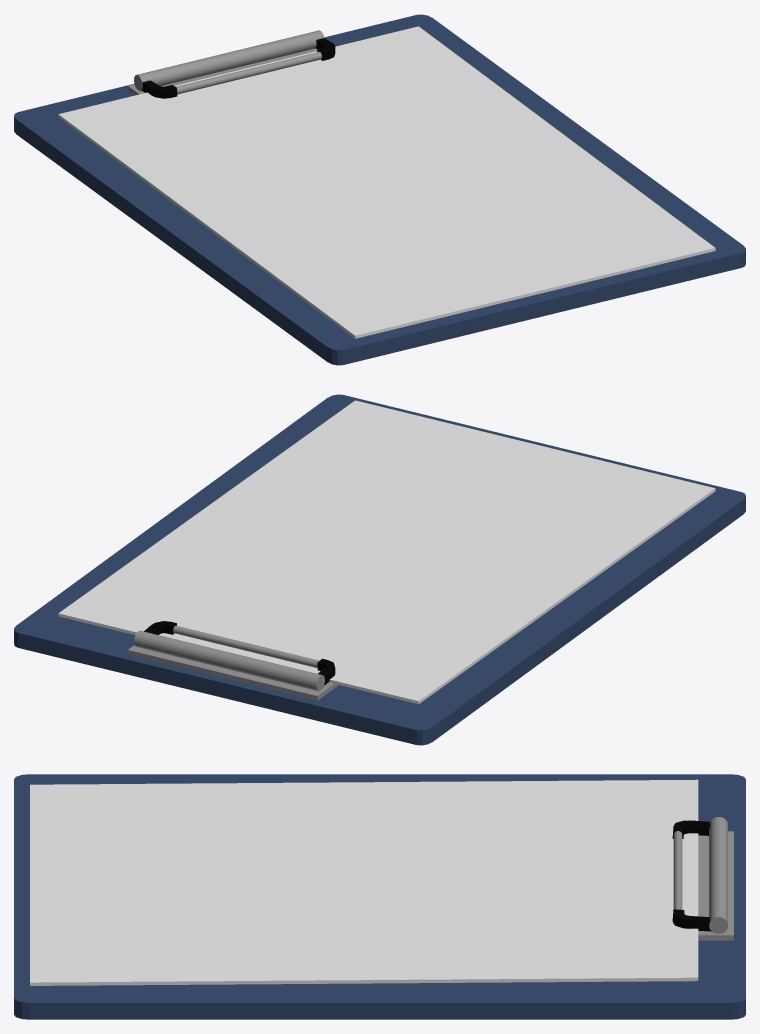
The picture shows the model from 3 angles, top to bottom: view 1: azimuth 30°, elevation 25°; view 2: azimuth 150°, elevation 25°; view 3: azimuth 270°, elevation 25°; orthographic projection. The views are drawn at different scales.
Parts seen in each view (by area): view 1: paper, Cube, Cylinder.001, Cylinder, Cube.001; view 2: paper, Cube, Cylinder.001, Cube.001, Cylinder; view 3: paper, Cube, Cylinder.001, Cube.001, Cylinder, Cube.003, Cube.002.
Part boxes in pixels (x1,y1,x2,y2): paper: [58, 26, 715, 338]; Cube: [14, 14, 745, 365]; Cylinder.001: [134, 30, 324, 91]; Cylinder: [176, 52, 321, 94]; Cube.001: [128, 48, 317, 95]; paper: [58, 400, 715, 704]; Cube: [14, 394, 745, 745]; Cylinder.001: [134, 630, 324, 691]; Cube.001: [128, 645, 338, 700]; Cylinder: [173, 625, 319, 667]; paper: [30, 779, 698, 985]; Cube: [14, 774, 745, 1019]; Cylinder.001: [709, 817, 727, 933]; Cube.001: [698, 831, 733, 940]; Cylinder: [673, 831, 682, 909]; Cube.003: [672, 909, 711, 931]; Cube.002: [672, 820, 710, 838].
Bounding box in the file's own units: 15.08 × 1.18 × 20.41.
